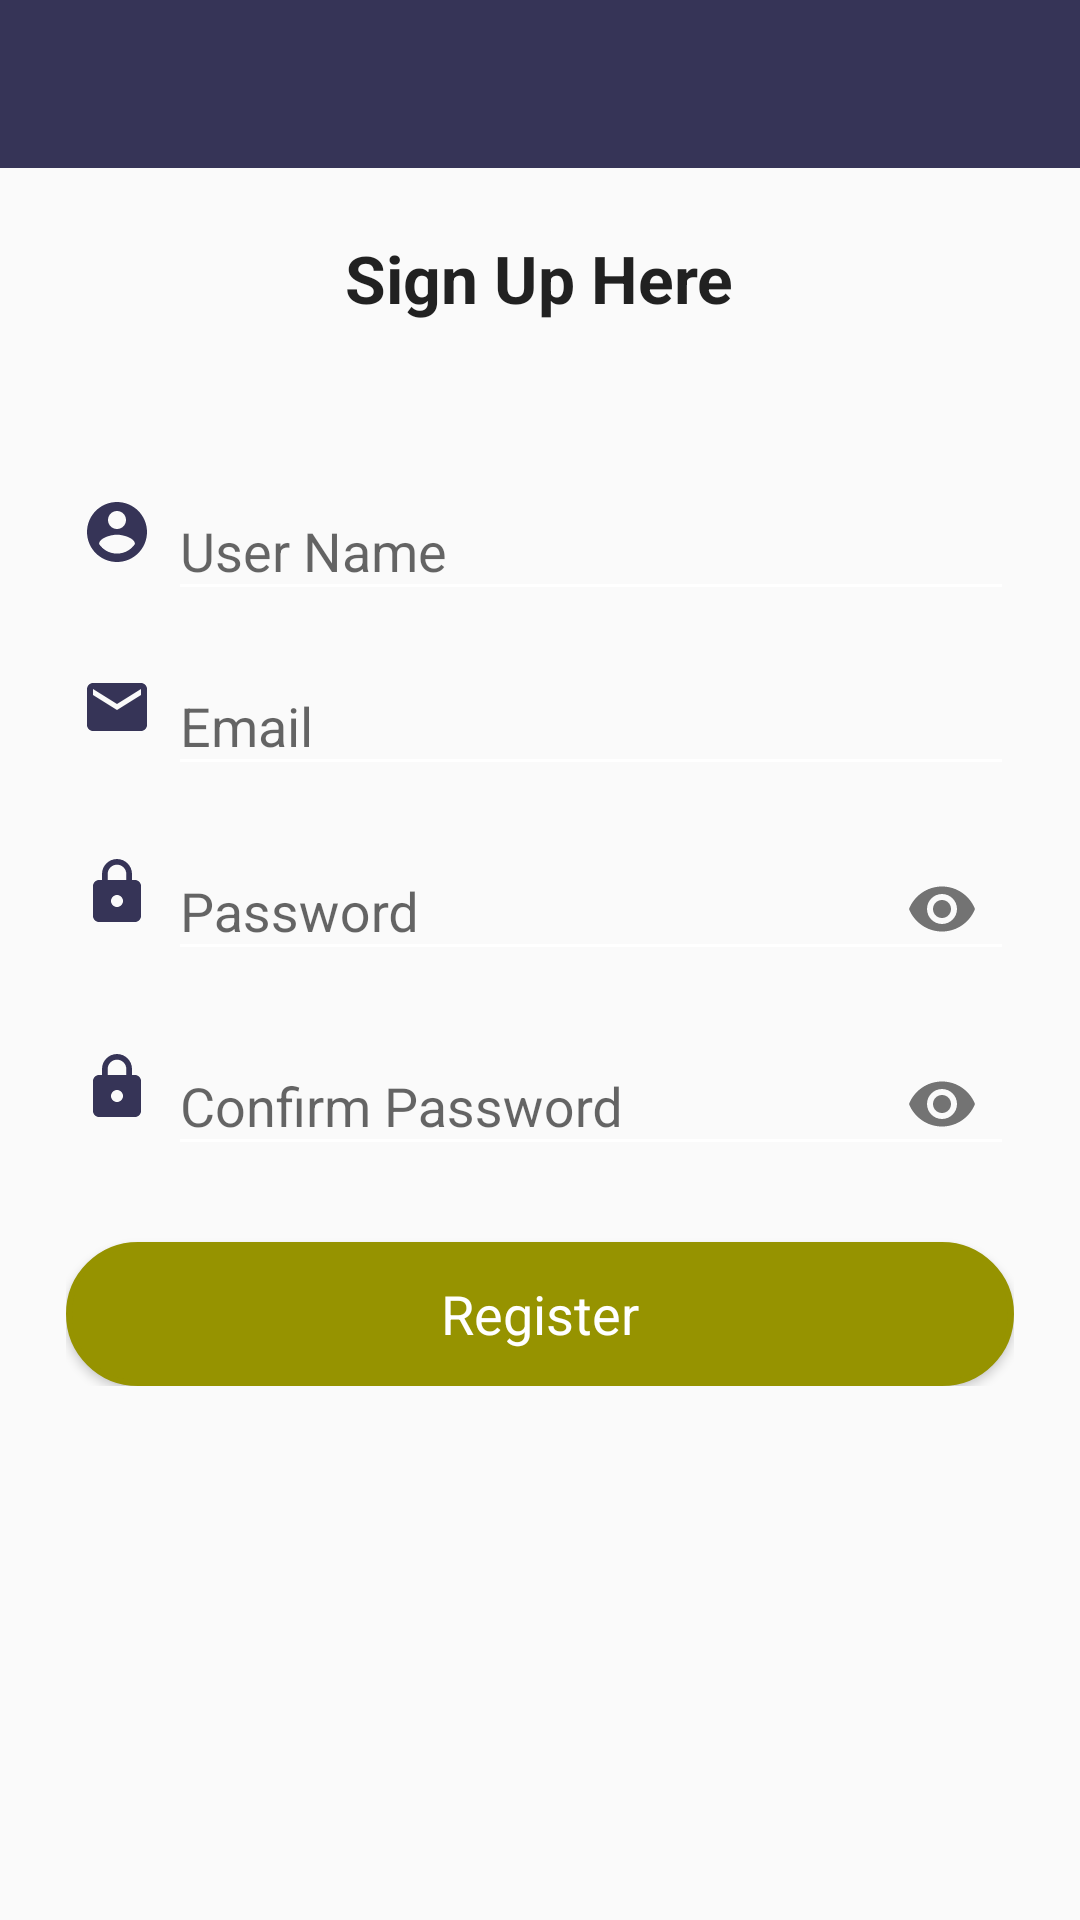

Icon click points for this 1080w x 1920h phone screenshot, format (x=x, y=y):
lock: (x=117, y=890), (x=117, y=1085)
